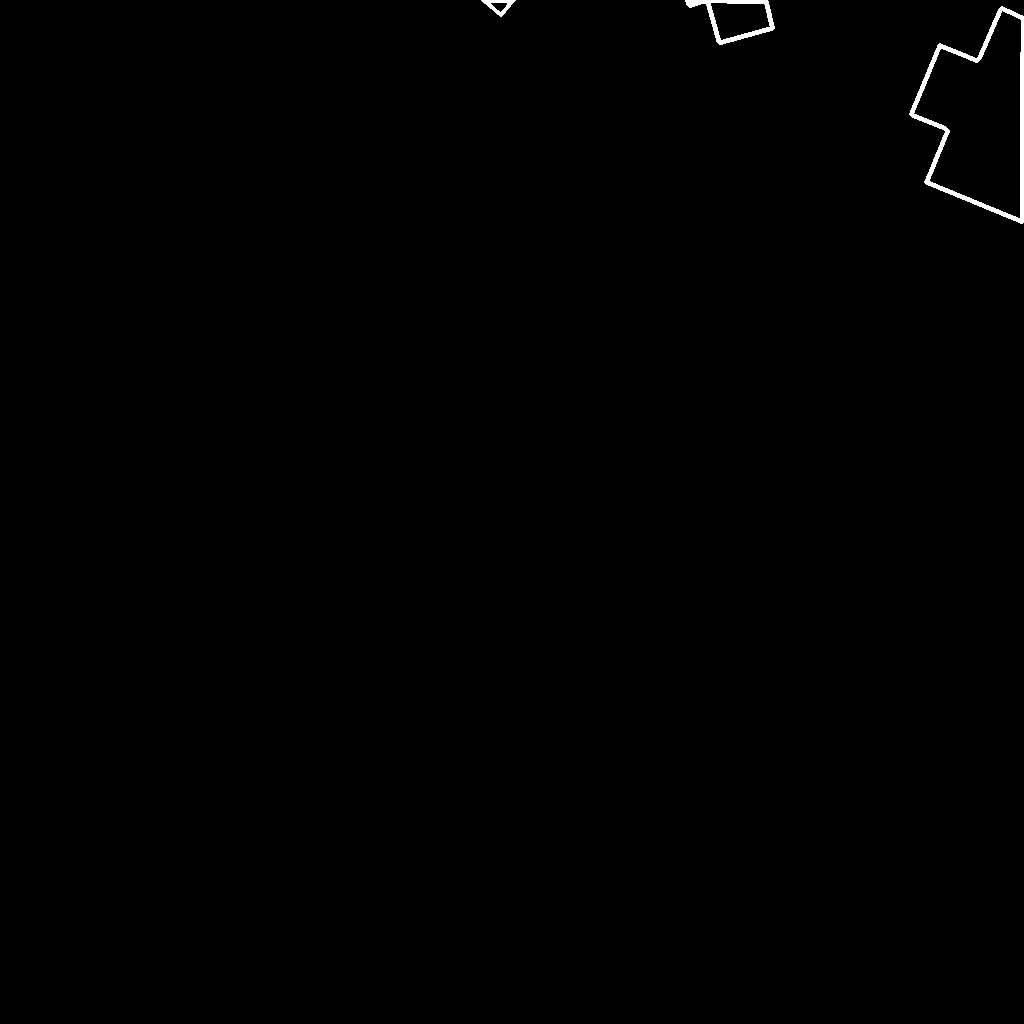building: (911, 8, 1024, 223), (687, 0, 774, 44), (483, 0, 515, 16)
